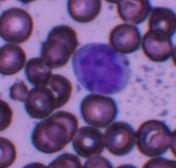M: (73, 40, 130, 95)
